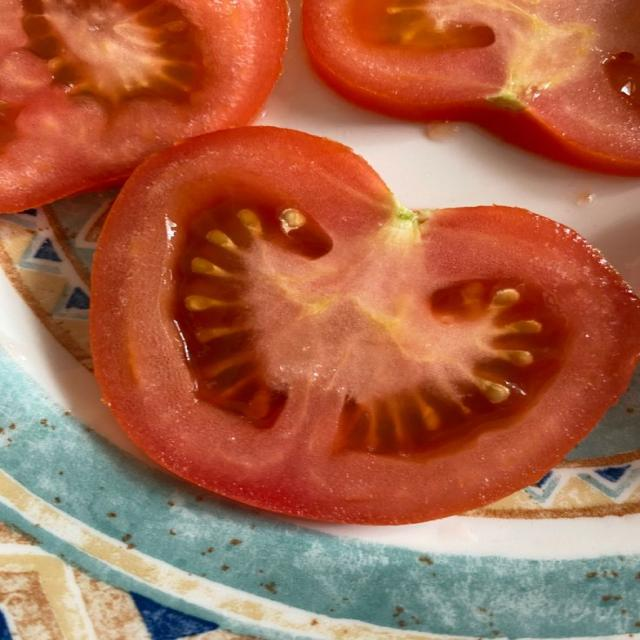sliced_tomato: (92, 128, 639, 523), (0, 0, 288, 211), (303, 0, 639, 175)
